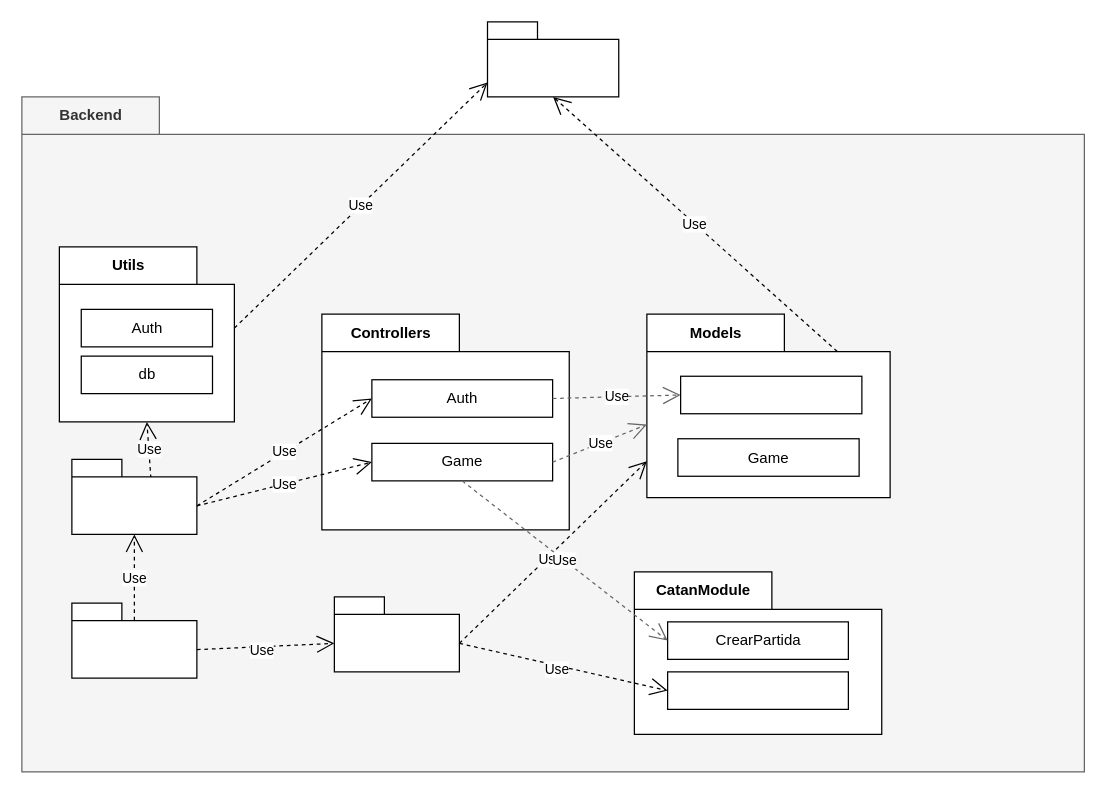
Some shapes in this 1106 by 804 pixel diagram are drawn without their labels. The centre of each missing label's shape, as x and y in pixels:
"Database" belongs at pixel 552 59.
"Move" belongs at pixel 757 690.
"Router" belongs at pixel 134 496.
"Server" belongs at pixel 134 640.
"Sockets" belongs at pixel 396 634.
"User" belongs at pixel 770 394.
